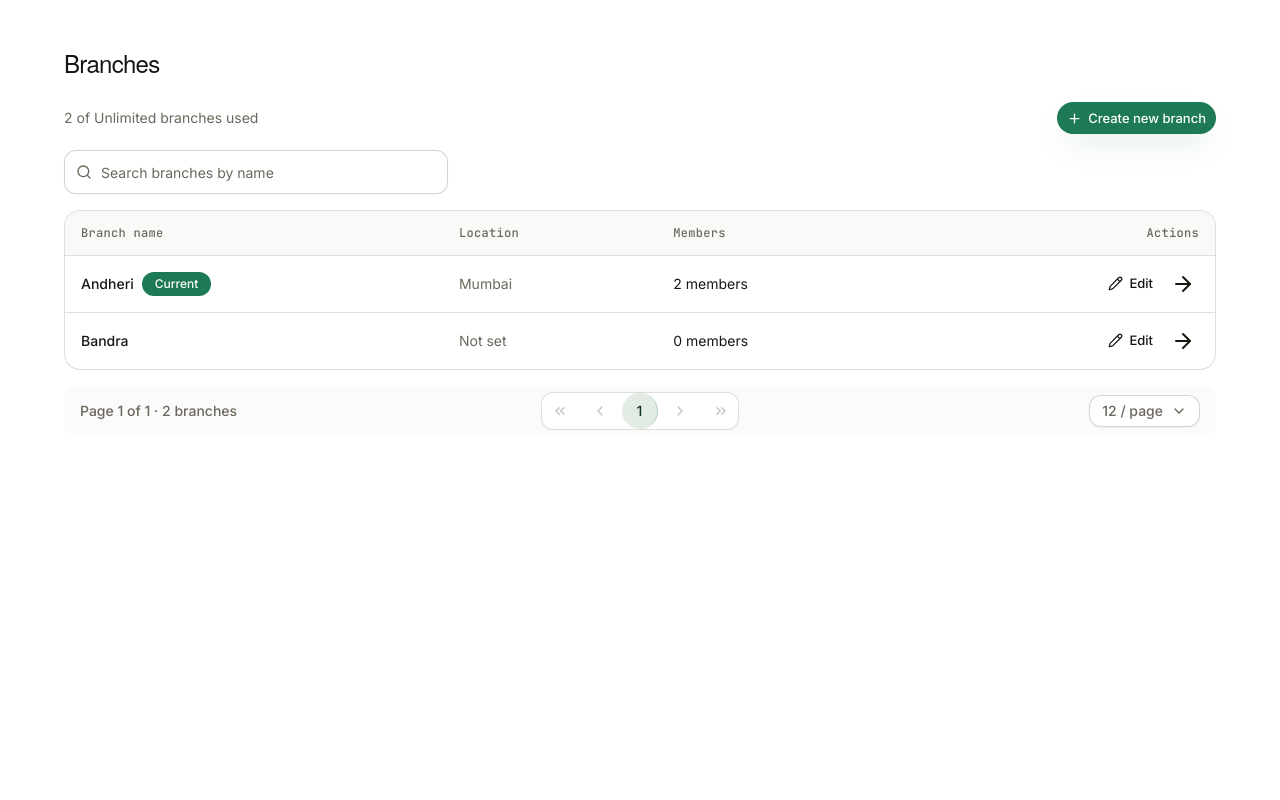
DesignerBranches › keeps creation failures in the dialog for retry
The image size is (1280, 800).
Click the button "Create new branch" at (1137, 118), box [1057, 102, 1216, 134]
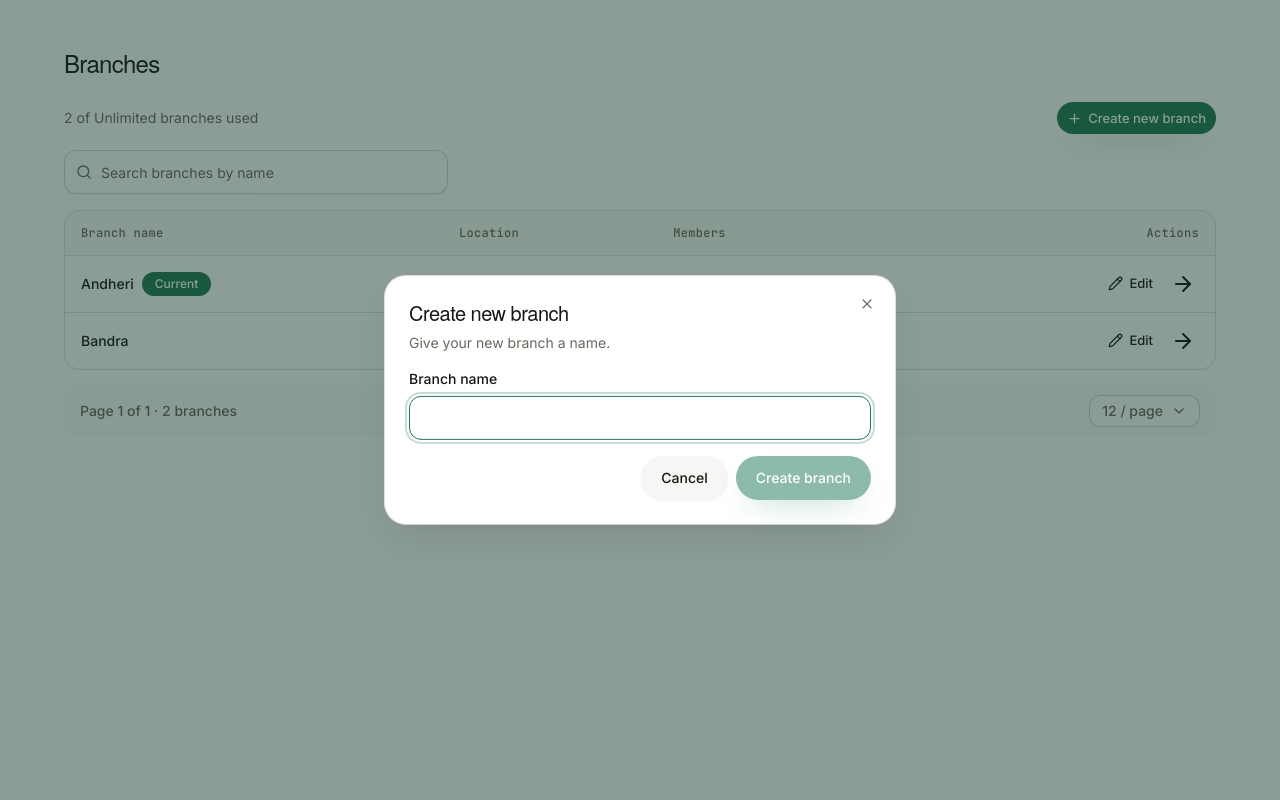
Type "Juhu" into the field labelled "Branch name" at (640, 418), box [409, 396, 871, 440]
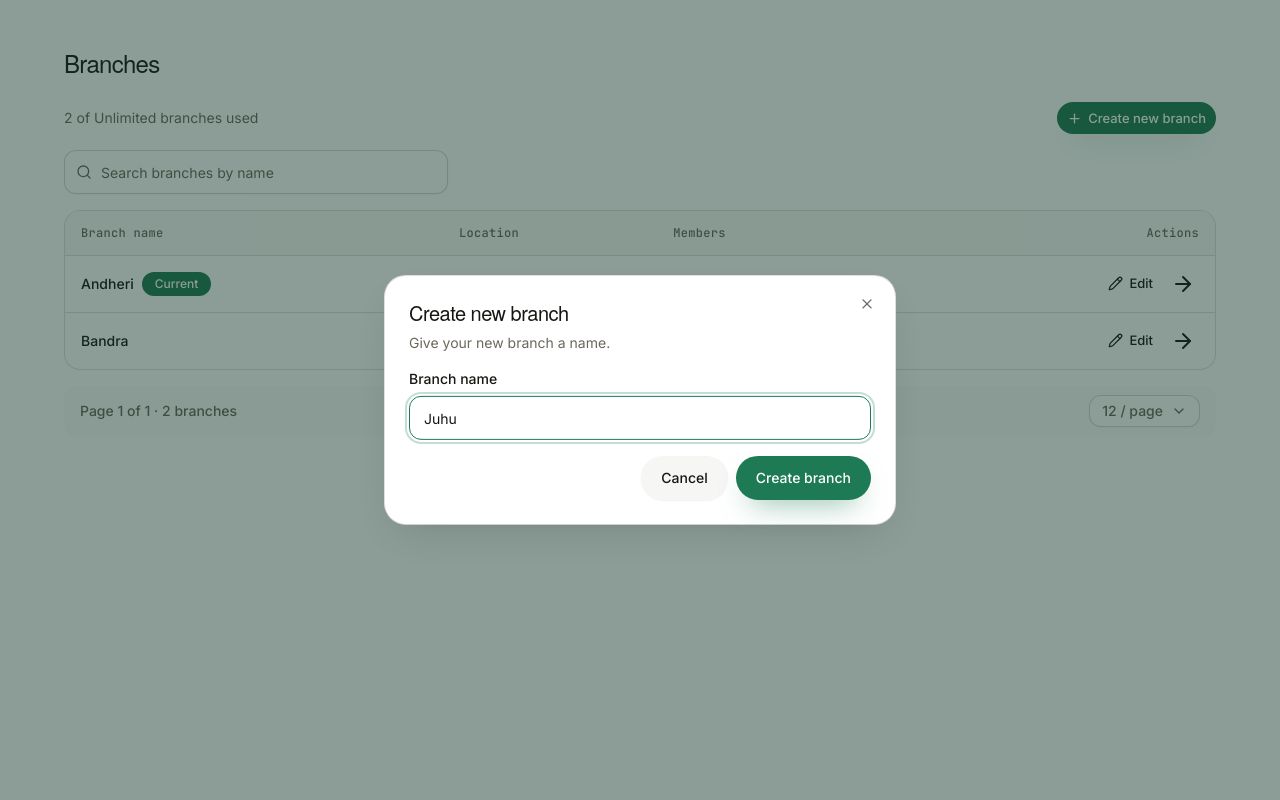
Click the button "Create branch" at (803, 478), box [736, 456, 871, 500]
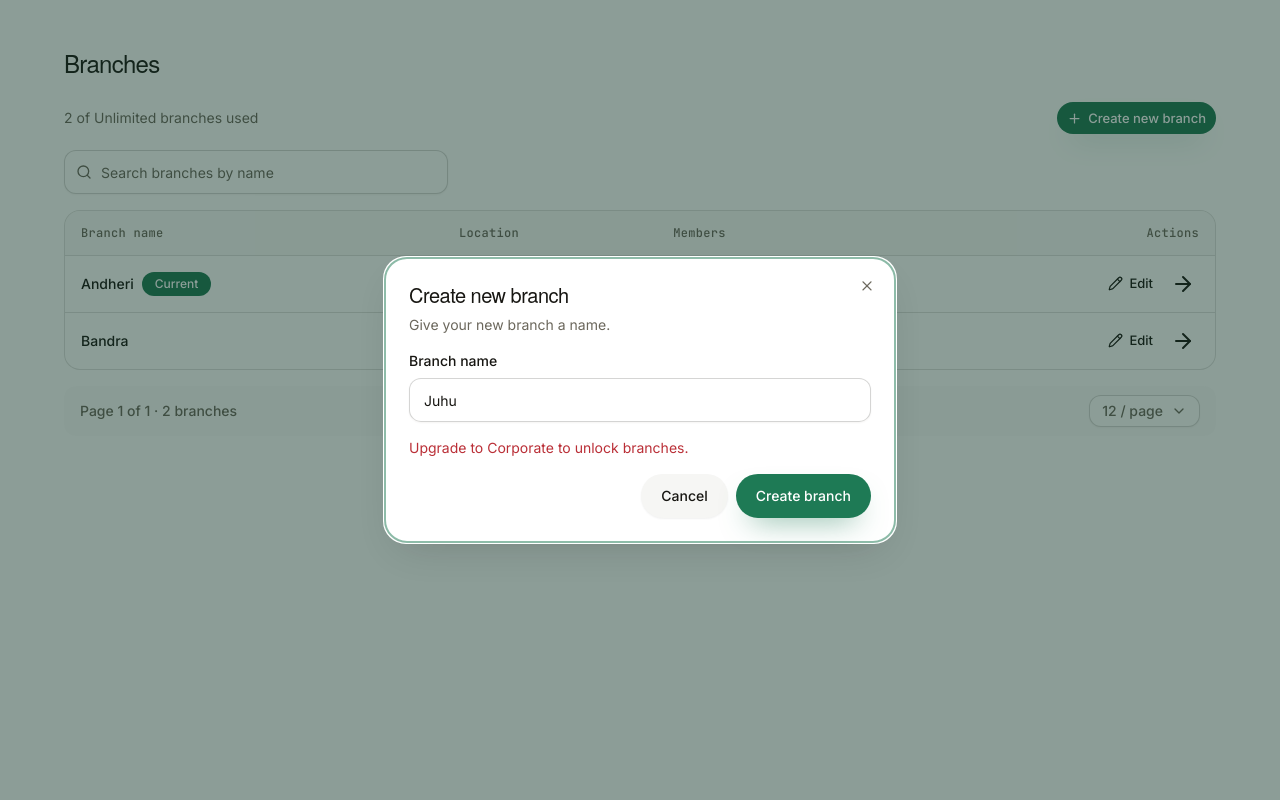
Check: the message reads "Upgrade to Corporate to unlock branches.", box [409, 439, 688, 456]
